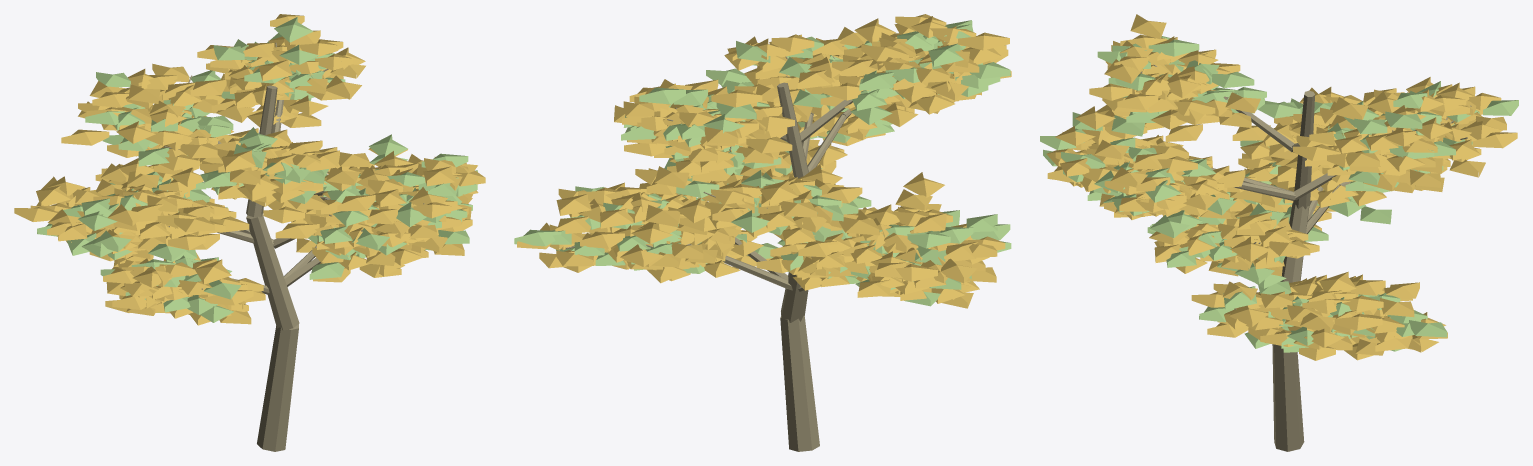
The model's file is ginkgo.glb.
3 renders of one model, left to right at view 1: azimuth 30°, elevation 25°; view 2: azimuth 150°, elevation 25°; view 3: azimuth 270°, elevation 25°, orthographic. The views are drawn at different scales.
Parts seen in each view (by area): view 1: Sunwen_ginkgo; view 2: Sunwen_ginkgo; view 3: Sunwen_ginkgo.
Part boxes in pixels (left/top/right/bottom): Sunwen_ginkgo: left=14, top=14, right=485, bottom=451; Sunwen_ginkgo: left=514, top=14, right=1011, bottom=451; Sunwen_ginkgo: left=1040, top=14, right=1518, bottom=451.
Size of the model in its own units: 5.1 by 4.25 by 4.93.
